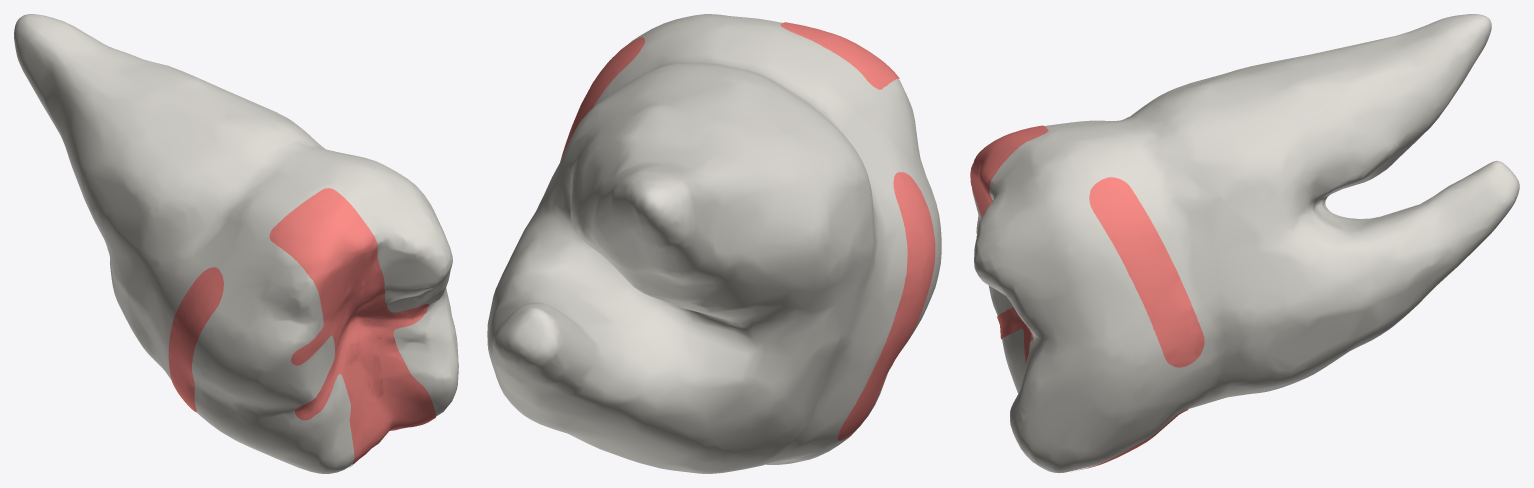
The model's file is tooth_46_FMA55705.glb.
3 views of the same model, side by side, from view 1: azimuth 30°, elevation 25°; view 2: azimuth 150°, elevation 25°; view 3: azimuth 270°, elevation 25° (orthographic). The views are drawn at different scales.
Visible parts, largest first — view 1: tooth_46, class2_distal, class2_mesial, class1, class5_facial, class2_mesial_distal; view 2: tooth_46, class5_facial, class2_distal, class5_lingual; view 3: tooth_46, class5_lingual, class2_distal.
Boxes of the visible parts, x1=… form: tooth_46: x1=14, y1=14, x2=458, y2=473; class2_distal: x1=269, y1=188, x2=403, y2=379; class2_mesial: x1=332, y1=292, x2=435, y2=466; class1: x1=291, y1=278, x2=428, y2=420; class5_facial: x1=168, y1=267, x2=223, y2=412; class2_mesial_distal: x1=334, y1=297, x2=405, y2=381; tooth_46: x1=487, y1=14, x2=941, y2=473; class5_facial: x1=837, y1=172, x2=935, y2=440; class2_distal: x1=780, y1=22, x2=899, y2=89; class5_lingual: x1=560, y1=37, x2=644, y2=161; tooth_46: x1=972, y1=14, x2=1519, y2=473; class5_lingual: x1=1089, y1=177, x2=1204, y2=367; class2_distal: x1=970, y1=125, x2=1048, y2=332.
Size of the model in its own units: 11.69 by 14.28 by 18.71.
